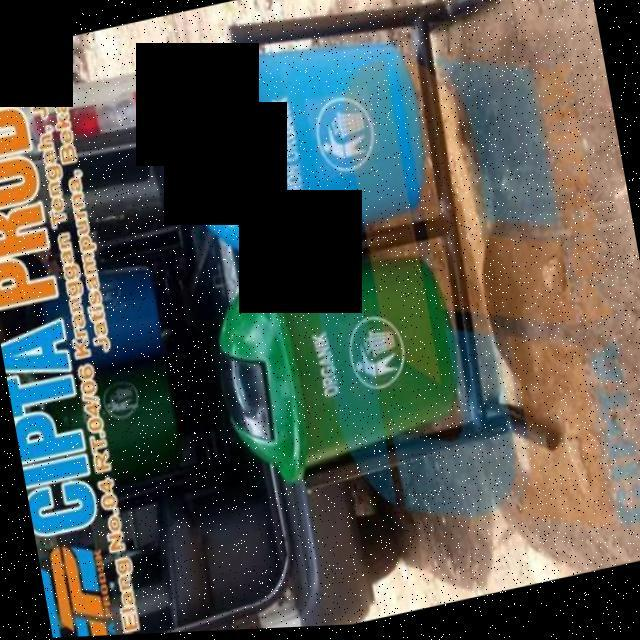bin: (152, 0, 471, 278), (185, 225, 493, 510)
